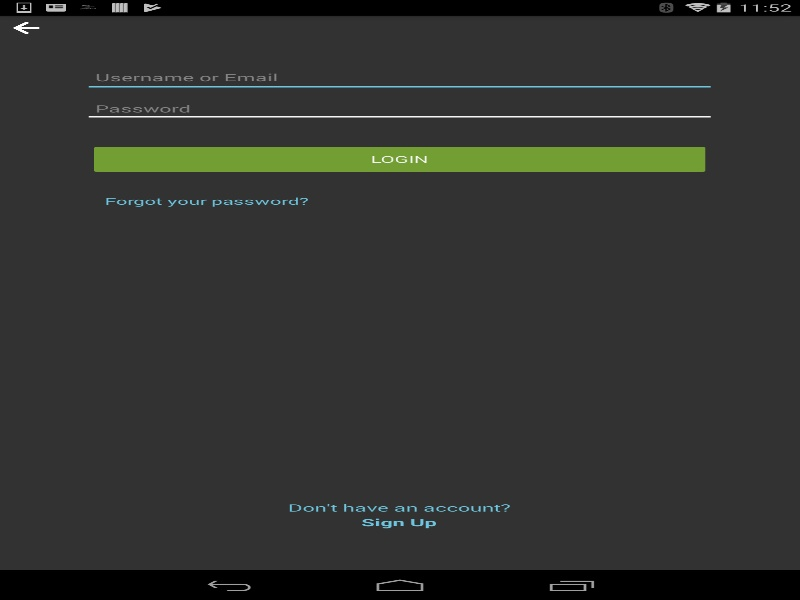Button: (88, 143, 710, 175)
Input: (88, 67, 710, 97), (88, 100, 710, 127)
